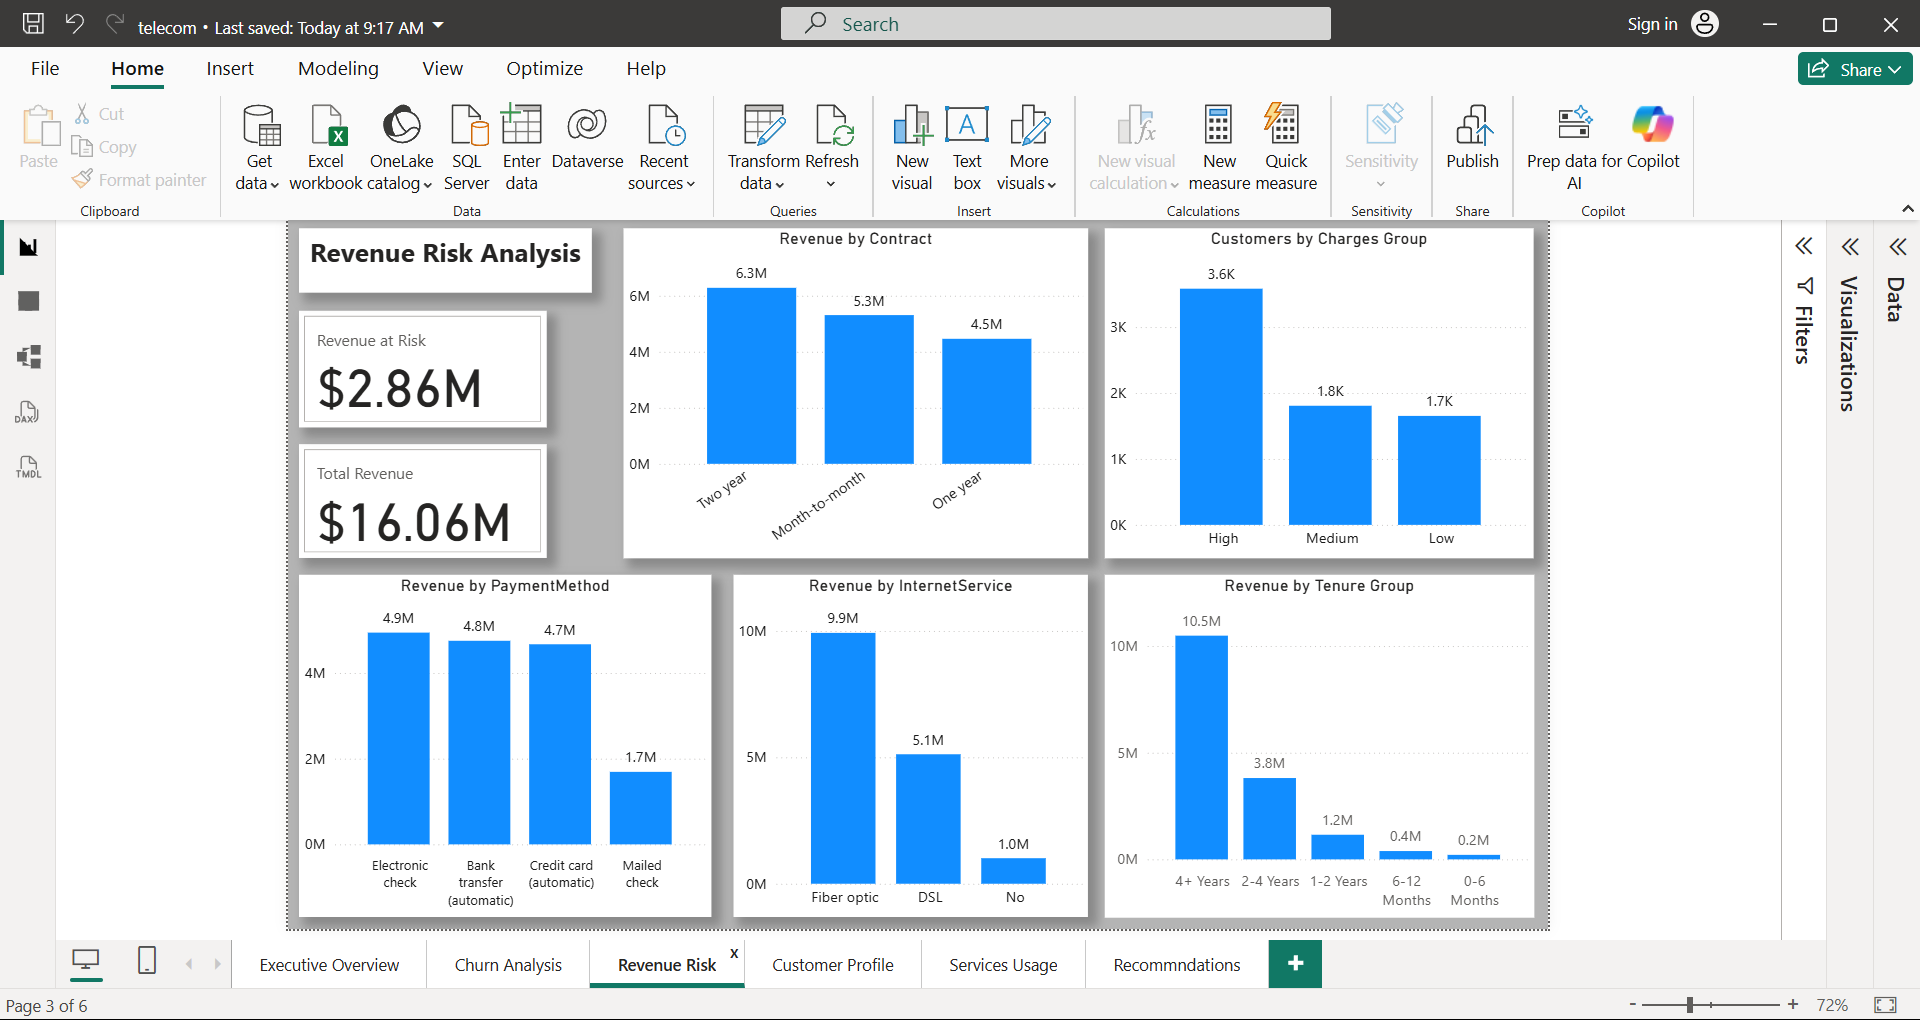

The page's visual inventory and layout, read from the dashboard file:
{"tool":"powerbi","page":{"name":"Revenue Risk","canvas":[1280,720],"ordinal":2},"visuals":[{"type":"cardVisual","fields":{"Data":["Measure_table.Total Revenue"]},"box":[11.2,227.6,251.4,115.9],"z":0},{"type":"cardVisual","fields":{"Data":["Measure_table.Revenue at Risk"]},"box":[11.2,92.2,251.4,118.7],"z":1000},{"type":"clusteredColumnChart","title":" Revenue by Contract","fields":{"Category":["Telco-Customer-Churn.Contract"],"Y":["Measure_table.Total Revenue"]},"box":[340.8,8.4,472.1,335.2],"z":2000},{"type":"clusteredColumnChart","title":" Revenue by PaymentMethod","fields":{"Category":["Telco-Customer-Churn.PaymentMethod"],"Y":["Measure_table.Total Revenue"]},"box":[11.2,360.3,419,347.8],"z":3000},{"type":"clusteredColumnChart","title":" Customers by Charges Group","fields":{"Category":["Telco-Customer-Churn.Charges Group"],"Y":["Measure_table.Total Customers"]},"box":[829.6,8.4,435.7,335.2],"z":4000},{"type":"textbox","box":[11.2,8.4,297.5,65.6],"z":5000},{"type":"clusteredColumnChart","title":" Revenue by InternetService","fields":{"Category":["Telco-Customer-Churn.InternetService"],"Y":["Measure_table.Total Revenue"]},"box":[452.5,360.3,360.3,347.8],"z":6000},{"type":"clusteredColumnChart","title":" Revenue by Tenure Group","fields":{"Y":["Measure_table.Total Revenue"],"Category":["Telco-Customer-Churn.Tenure Group"]},"box":[830,360,436,348],"z":7000}]}

Visuals, with their boxes on the page's 1280x720 design canvas (x1, y1, x2, y2). These are canvas units, not pixel positions in the 1920x1020 screenshot, which may show the page scaled, cropped or inside an application window:
cardVisual - Measure_table.Total Revenue: bbox=(11, 228, 263, 344)
cardVisual - Measure_table.Revenue at Risk: bbox=(11, 92, 263, 211)
" Revenue by Contract" clusteredColumnChart: bbox=(341, 8, 813, 344)
" Revenue by PaymentMethod" clusteredColumnChart: bbox=(11, 360, 430, 708)
" Customers by Charges Group" clusteredColumnChart: bbox=(830, 8, 1265, 344)
textbox: bbox=(11, 8, 309, 74)
" Revenue by InternetService" clusteredColumnChart: bbox=(452, 360, 813, 708)
" Revenue by Tenure Group" clusteredColumnChart: bbox=(830, 360, 1266, 708)
